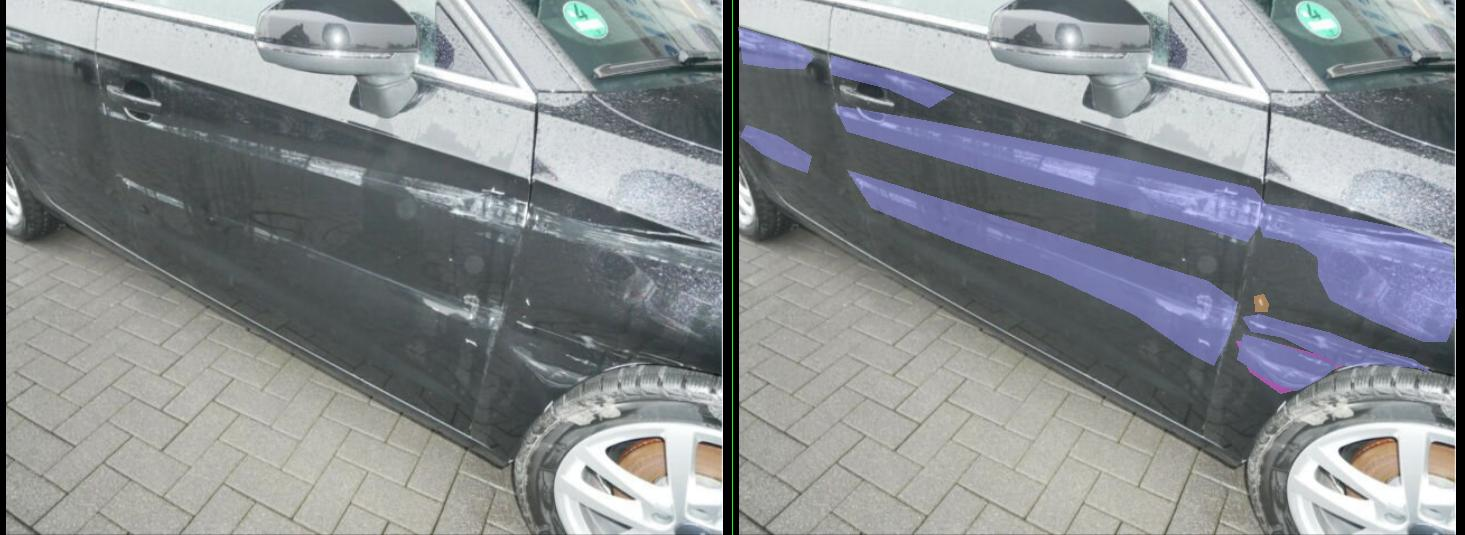Dent: (1165, 250, 1365, 314), (1007, 341, 1225, 393)
Paint chip: (1043, 294, 1071, 311)
Scratch: (228, 170, 1009, 365), (202, 105, 1061, 241), (1055, 203, 1447, 341), (1019, 314, 1397, 372), (194, 55, 440, 107), (1009, 334, 1209, 390), (14, 125, 156, 172), (10, 27, 162, 68)
